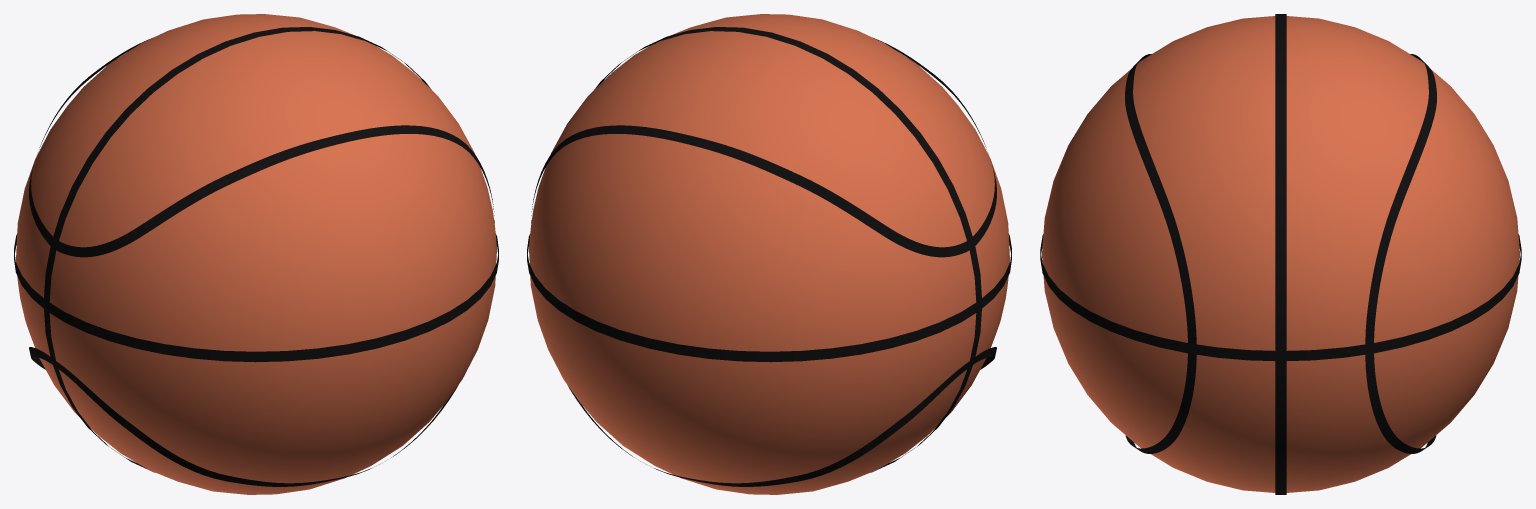
File: BasketBall.fbx
3 renders of one model, left to right at view 1: azimuth 30°, elevation 25°; view 2: azimuth 150°, elevation 25°; view 3: azimuth 270°, elevation 25°, orthographic.
Visible parts, largest first — view 1: Icosphere; view 2: Icosphere; view 3: Icosphere.
Boxes of the visible parts, x1,y1,x2,y2 form: Icosphere: (14, 14, 498, 494); Icosphere: (527, 14, 1011, 494); Icosphere: (1040, 14, 1521, 494).
Size of the model in its own units: 23.8 by 23.8 by 23.8.
